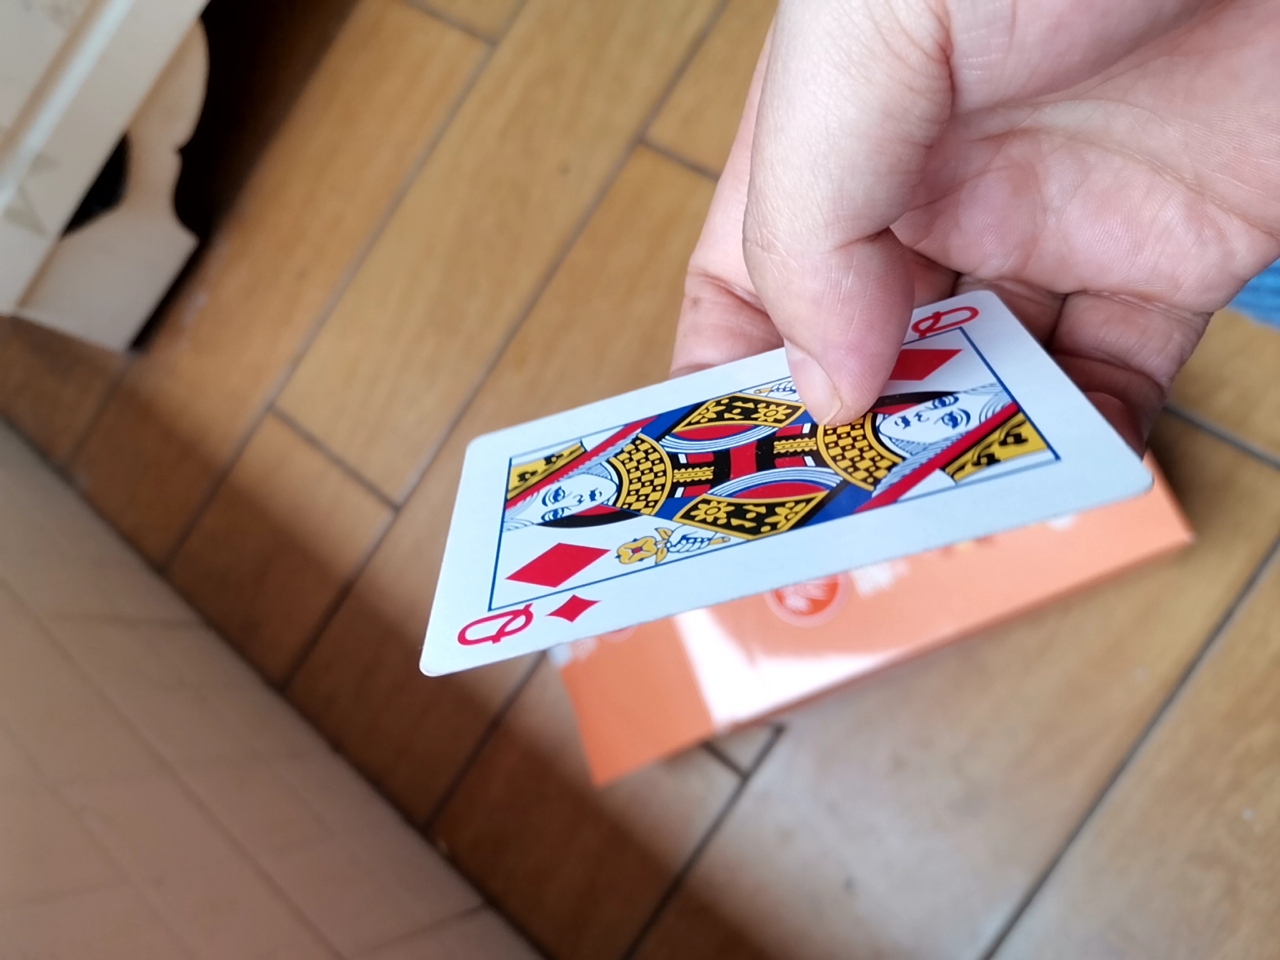fk q: (378, 282, 1162, 707)
